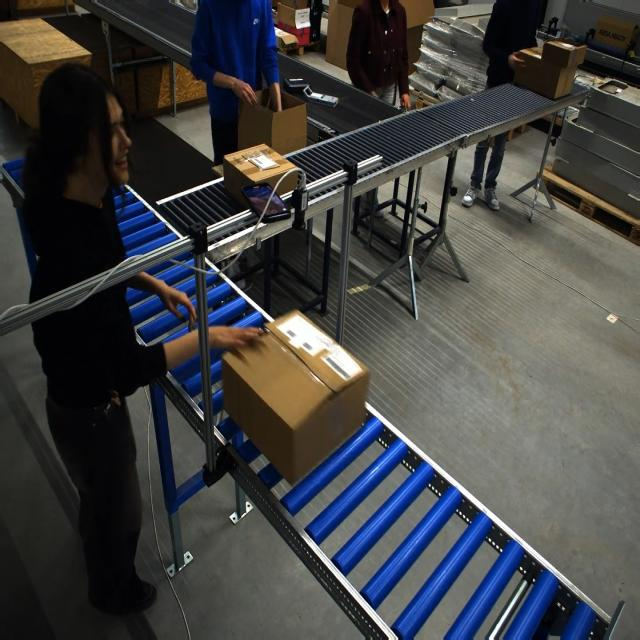box: (222, 312, 361, 480), (222, 142, 298, 210), (239, 86, 308, 158), (511, 38, 585, 100)
product: (309, 90, 341, 107), (283, 77, 308, 92)
